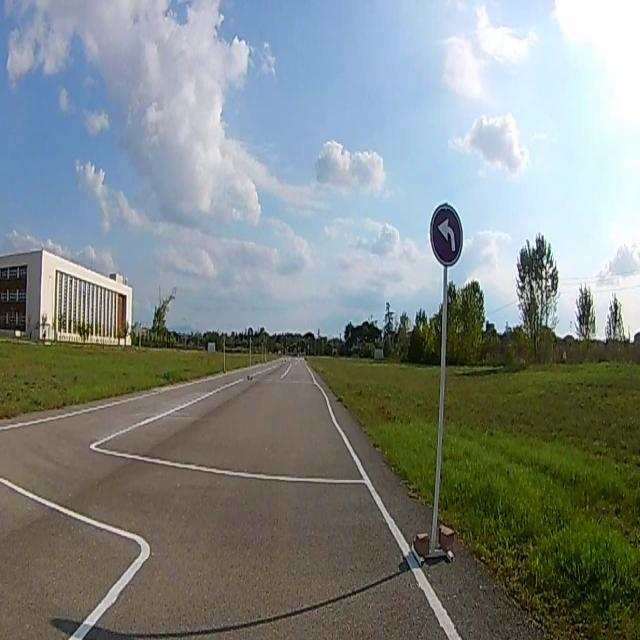sol: (429, 204, 463, 265)
